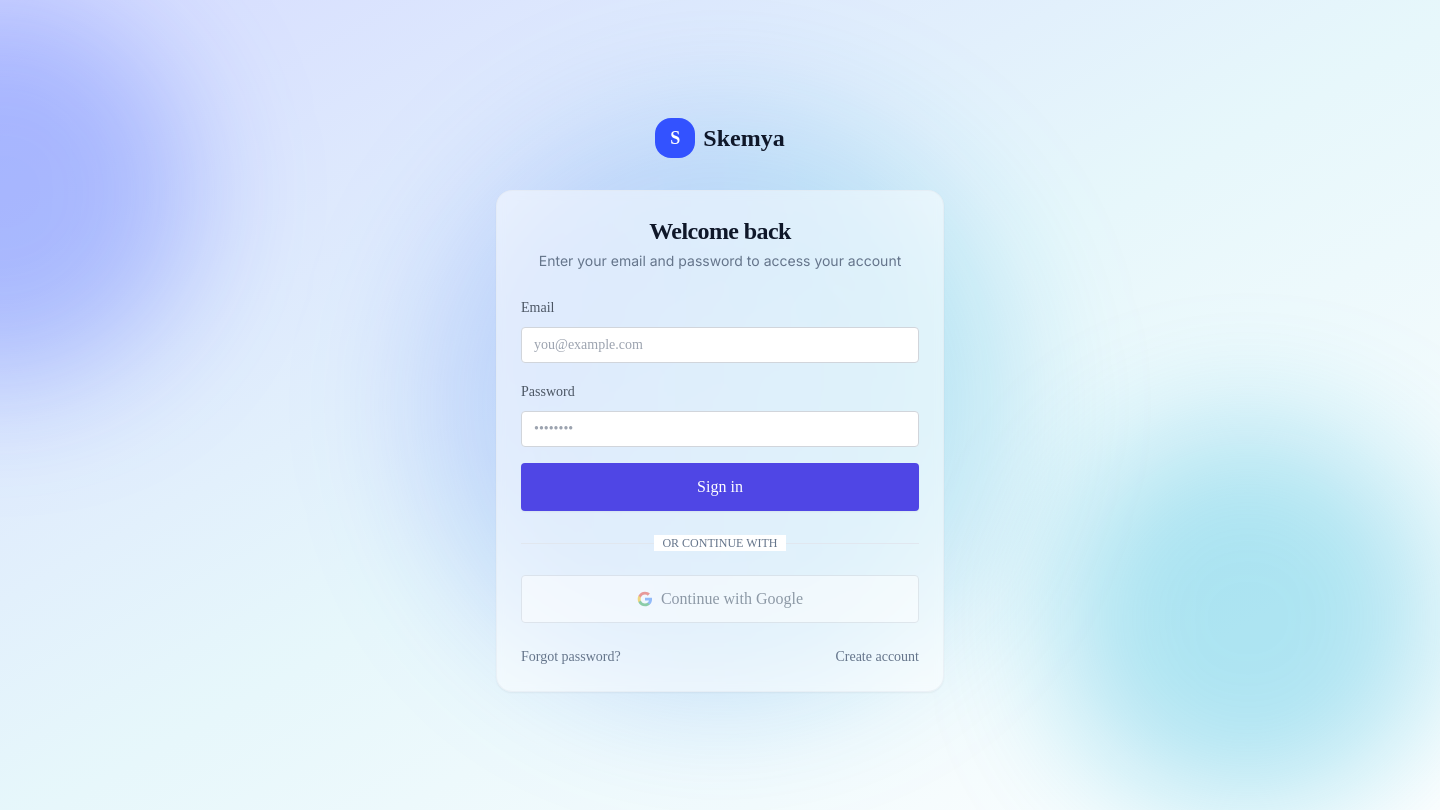
Test: LoginPage › validates password length
This screenshot has width=1440, height=810.
Type "test@example.com" into the field labelled "Email".
click(720, 345); type("test@example.com")  # box [521,327,919,363]
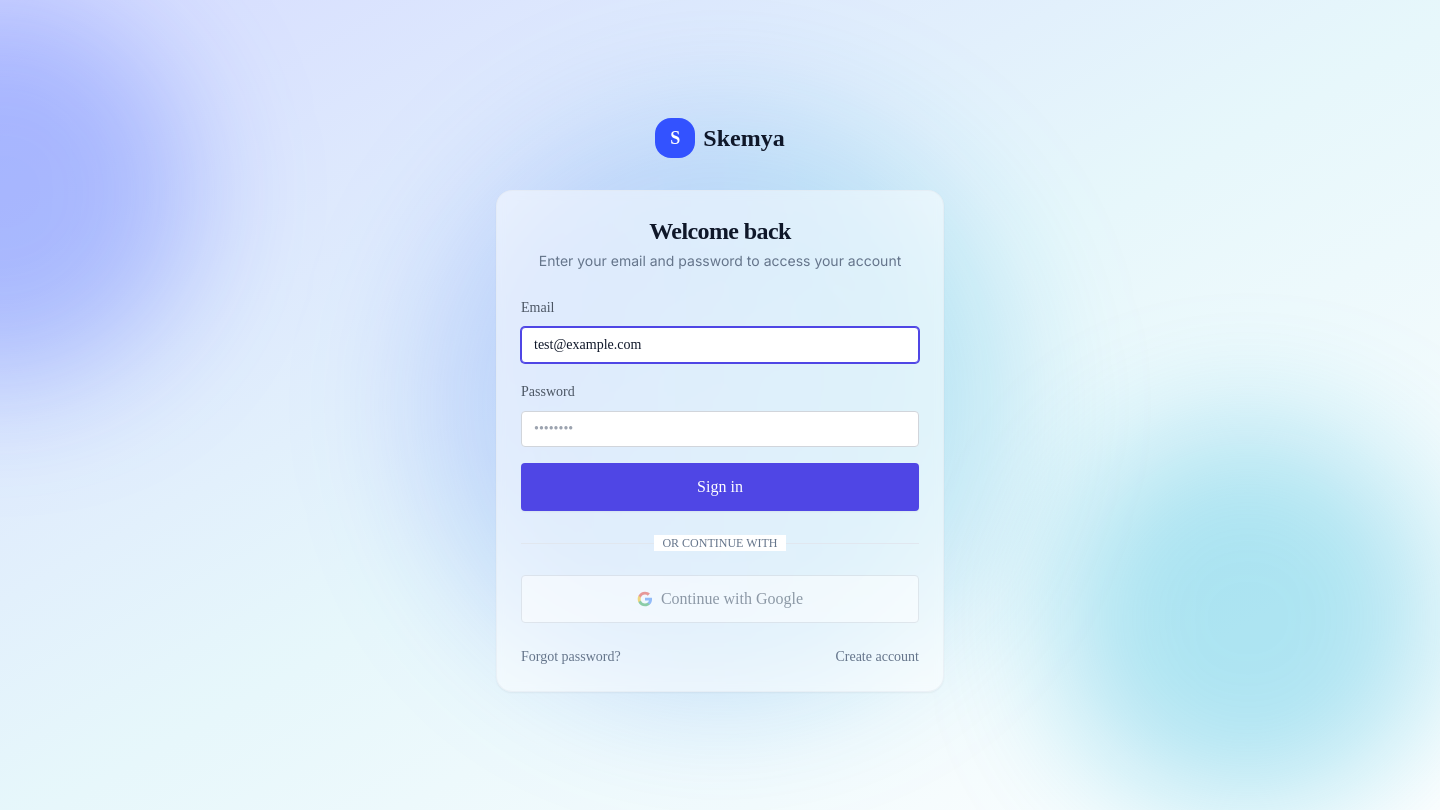
Type "short" into the password field labelled "Password".
click(720, 429); type("short")  # box [521,411,919,447]
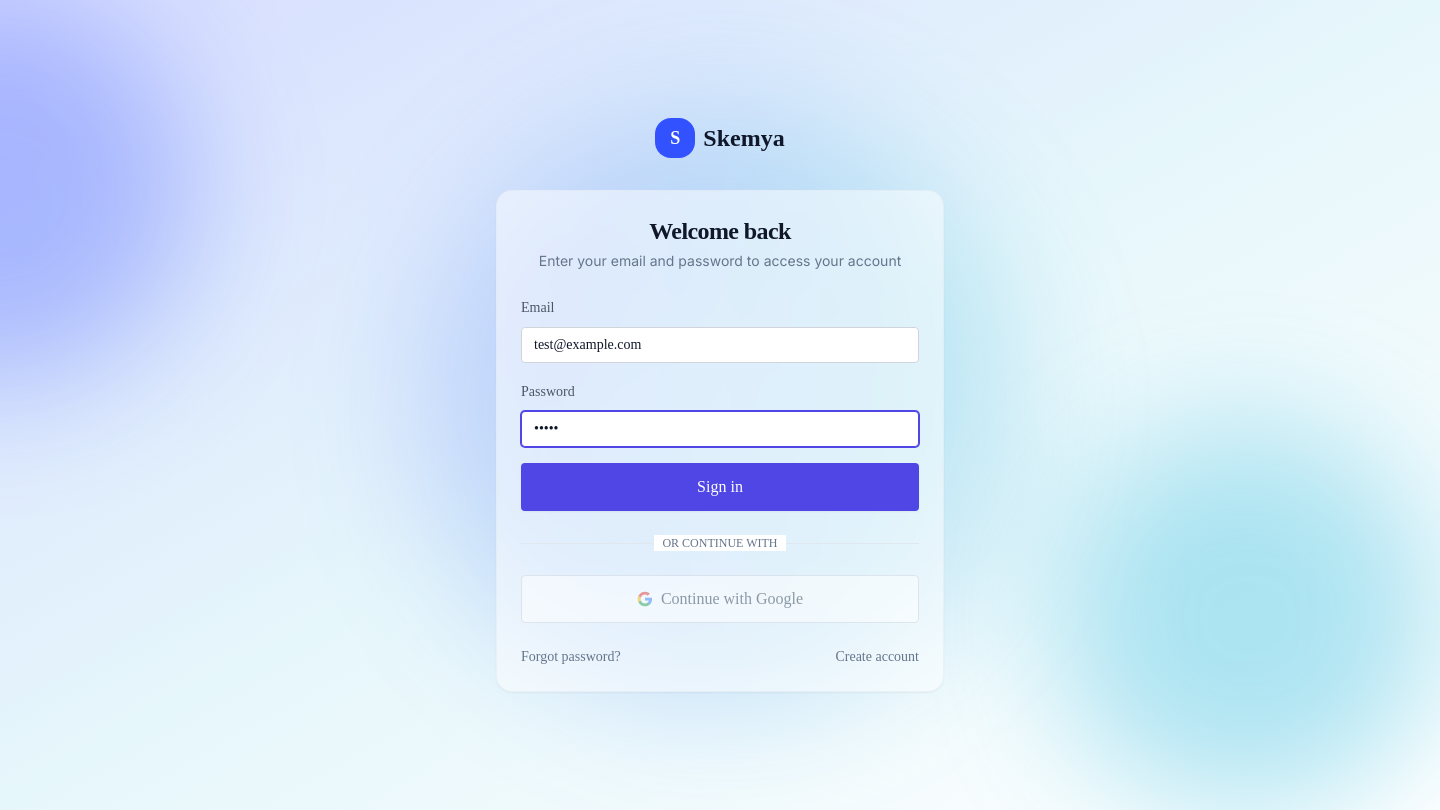
Click the button "Sign in".
click(720, 487)  # box [521,463,919,511]
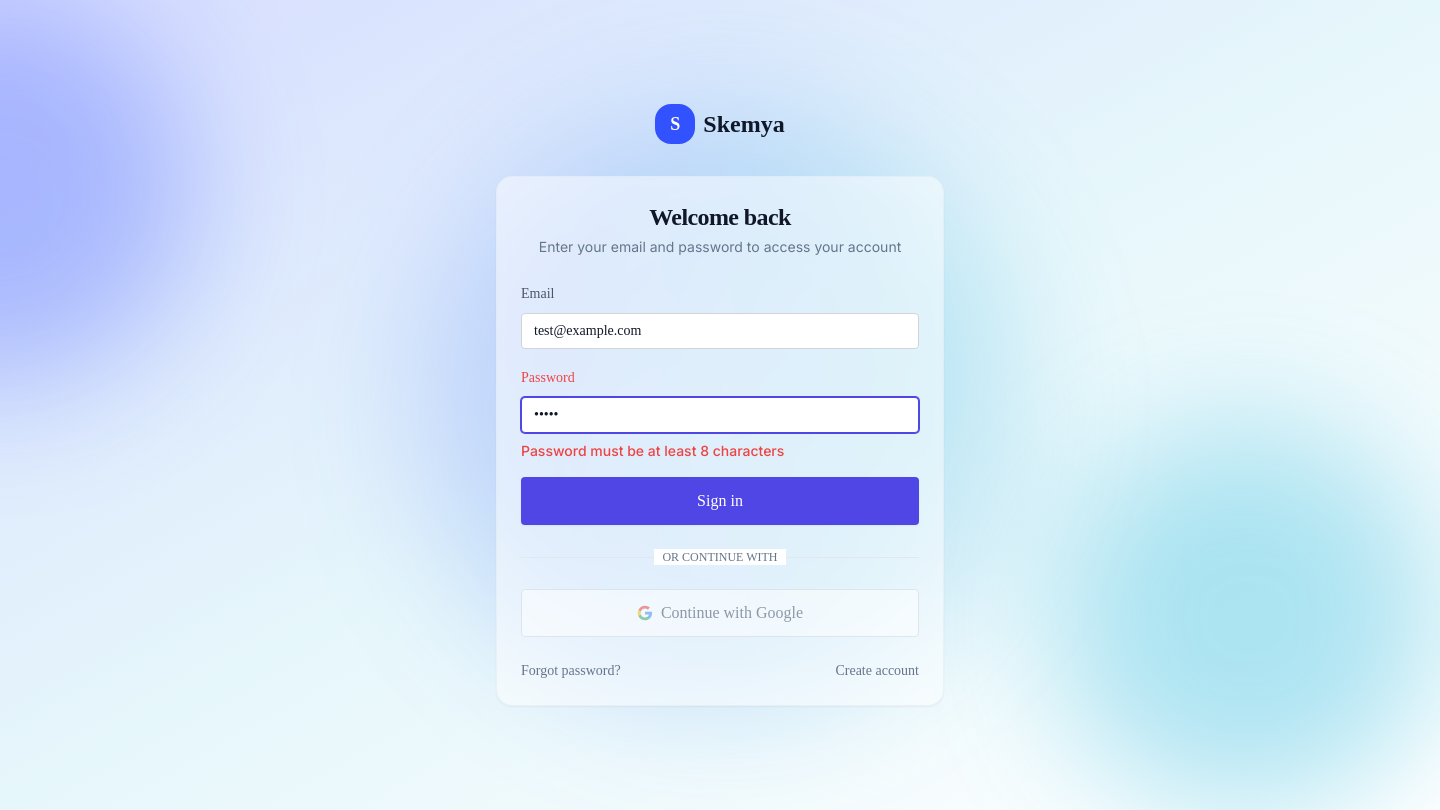
Result: the text "Password must be at least 8 characters" is shown at [521,442,784,459]
